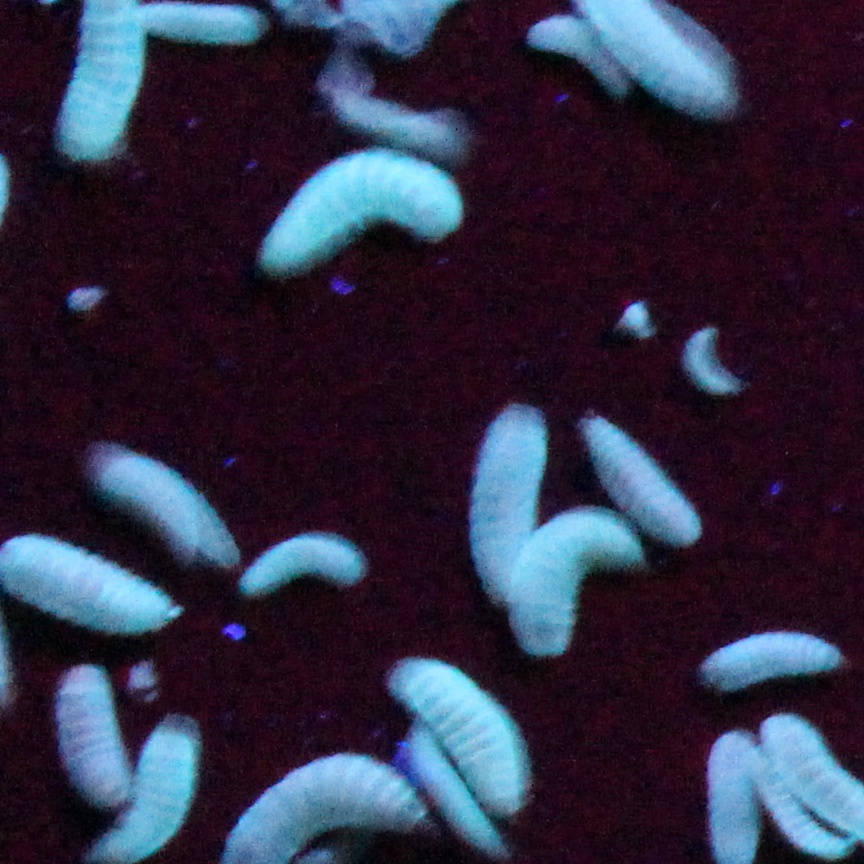larve: (265, 153, 459, 275), (401, 658, 531, 813), (1, 531, 176, 632), (99, 443, 234, 569), (586, 416, 704, 544), (532, 517, 633, 649), (53, 665, 129, 807), (469, 408, 526, 581), (699, 631, 839, 683), (246, 529, 357, 593), (525, 21, 621, 87), (140, 3, 266, 48), (677, 322, 744, 400)
